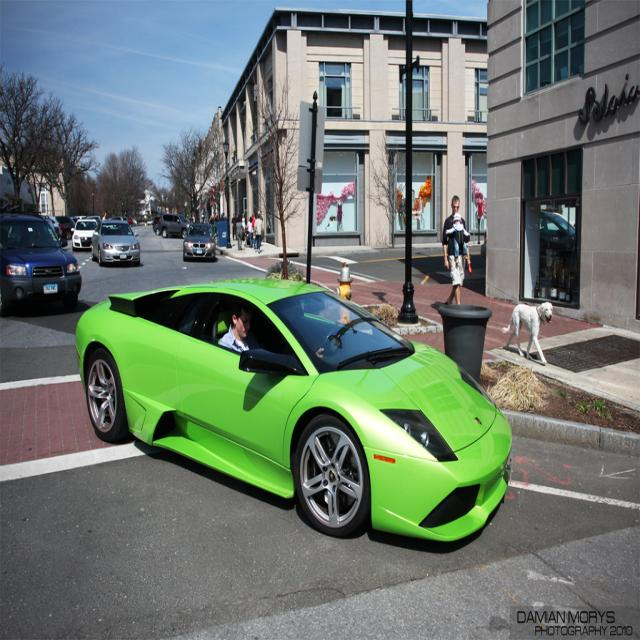car: (80, 267, 509, 546), (0, 211, 81, 312), (90, 213, 141, 268), (182, 219, 215, 261), (147, 209, 191, 238)
